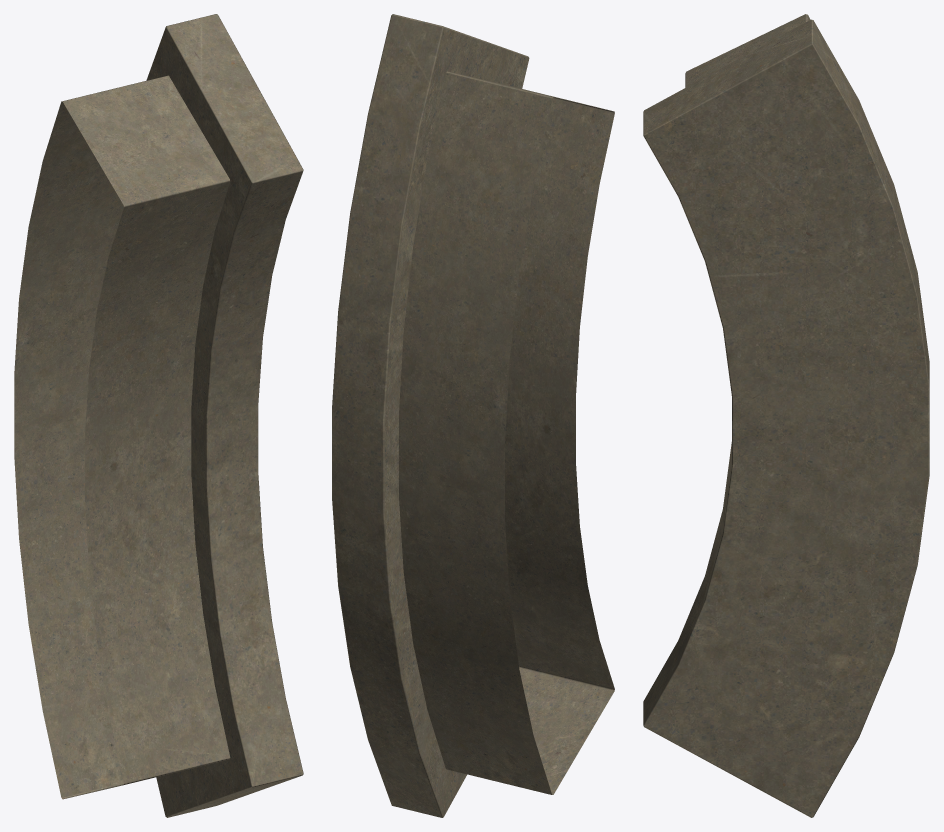
The model's file is cP_Bench11_Curve.dae.
3 renders of one model, left to right at view 1: azimuth 30°, elevation 25°; view 2: azimuth 150°, elevation 25°; view 3: azimuth 270°, elevation 25°, orthographic. The views are drawn at different scales.
Visible parts, largest first — view 1: cP_Bench11_Curve.001; view 2: cP_Bench11_Curve.001; view 3: cP_Bench11_Curve.001.
Part boxes in pixels (box(x1,y1,x2,y2)): cP_Bench11_Curve.001: box(14, 14, 303, 817); cP_Bench11_Curve.001: box(332, 14, 614, 817); cP_Bench11_Curve.001: box(643, 14, 929, 817).
Bounding box in the file's own units: 0.4531 × 0.7225 × 2.16.
